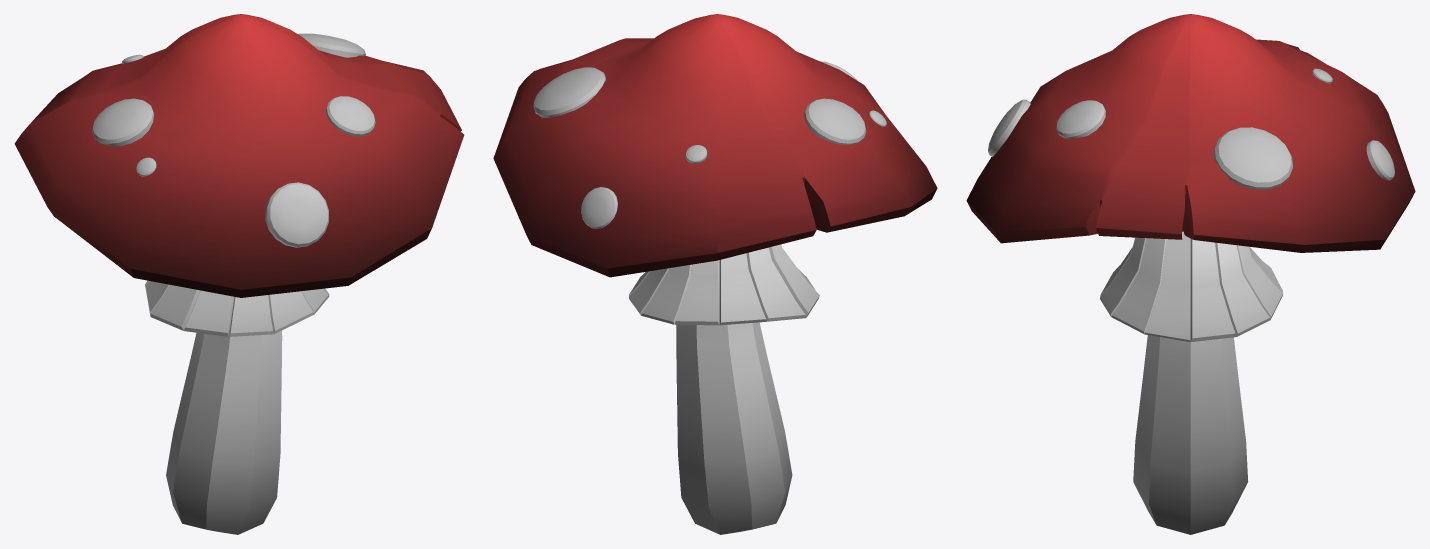
File: mushroom11.fbx
The picture shows the model from 3 angles, left to right: view 1: azimuth 30°, elevation 25°; view 2: azimuth 150°, elevation 25°; view 3: azimuth 270°, elevation 25°; orthographic projection. The views are drawn at different scales.
Visible parts, largest first — view 1: mushroom3; view 2: mushroom3; view 3: mushroom3.
Part boxes in pixels (bbox=[...]): mushroom3: bbox=[14, 14, 464, 534]; mushroom3: bbox=[493, 14, 937, 534]; mushroom3: bbox=[966, 14, 1415, 534].
Bounding box in the file's own units: 68.12 × 84.94 × 66.45.
